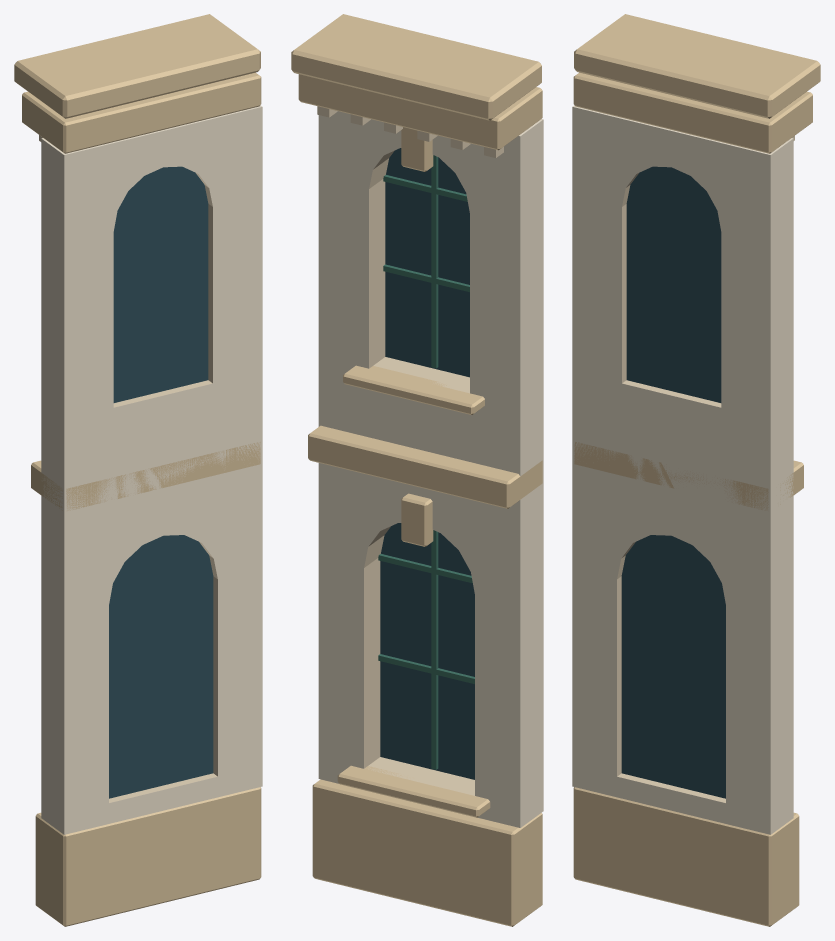
Rendered from lib_wall_arch.glb.
3 views of the same model, side by side, from view 1: azimuth 30°, elevation 25°; view 2: azimuth 150°, elevation 25°; view 3: azimuth 330°, elevation 25° (orthographic).
Visible parts, largest first — view 1: wall; view 2: wall; view 3: wall.
Boxes of the visible parts, <box> form: wall: <box>14,14,262,926</box>; wall: <box>291,14,543,926</box>; wall: <box>572,14,820,926</box>.
Bounding box in the file's own units: 2 × 8 × 0.9.
